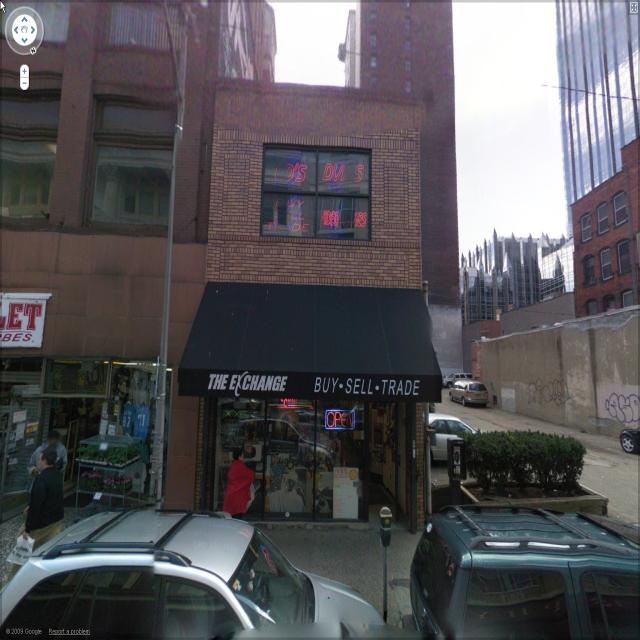b_1: (12, 1, 210, 498), (213, 72, 423, 524), (357, 9, 471, 298), (557, 3, 640, 177), (573, 154, 640, 347), (454, 230, 580, 311)
